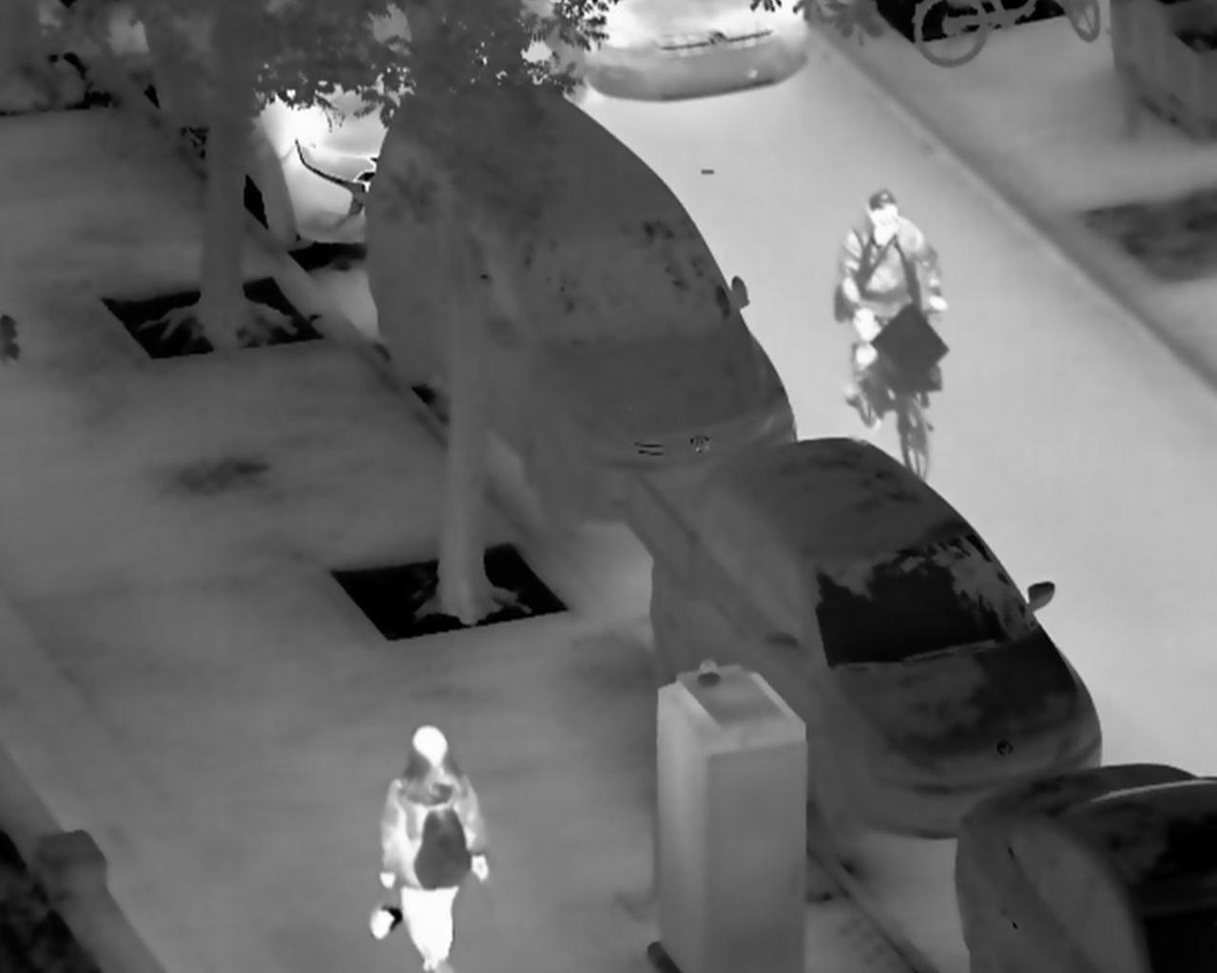person: (377, 726, 491, 973), (840, 190, 949, 406)
